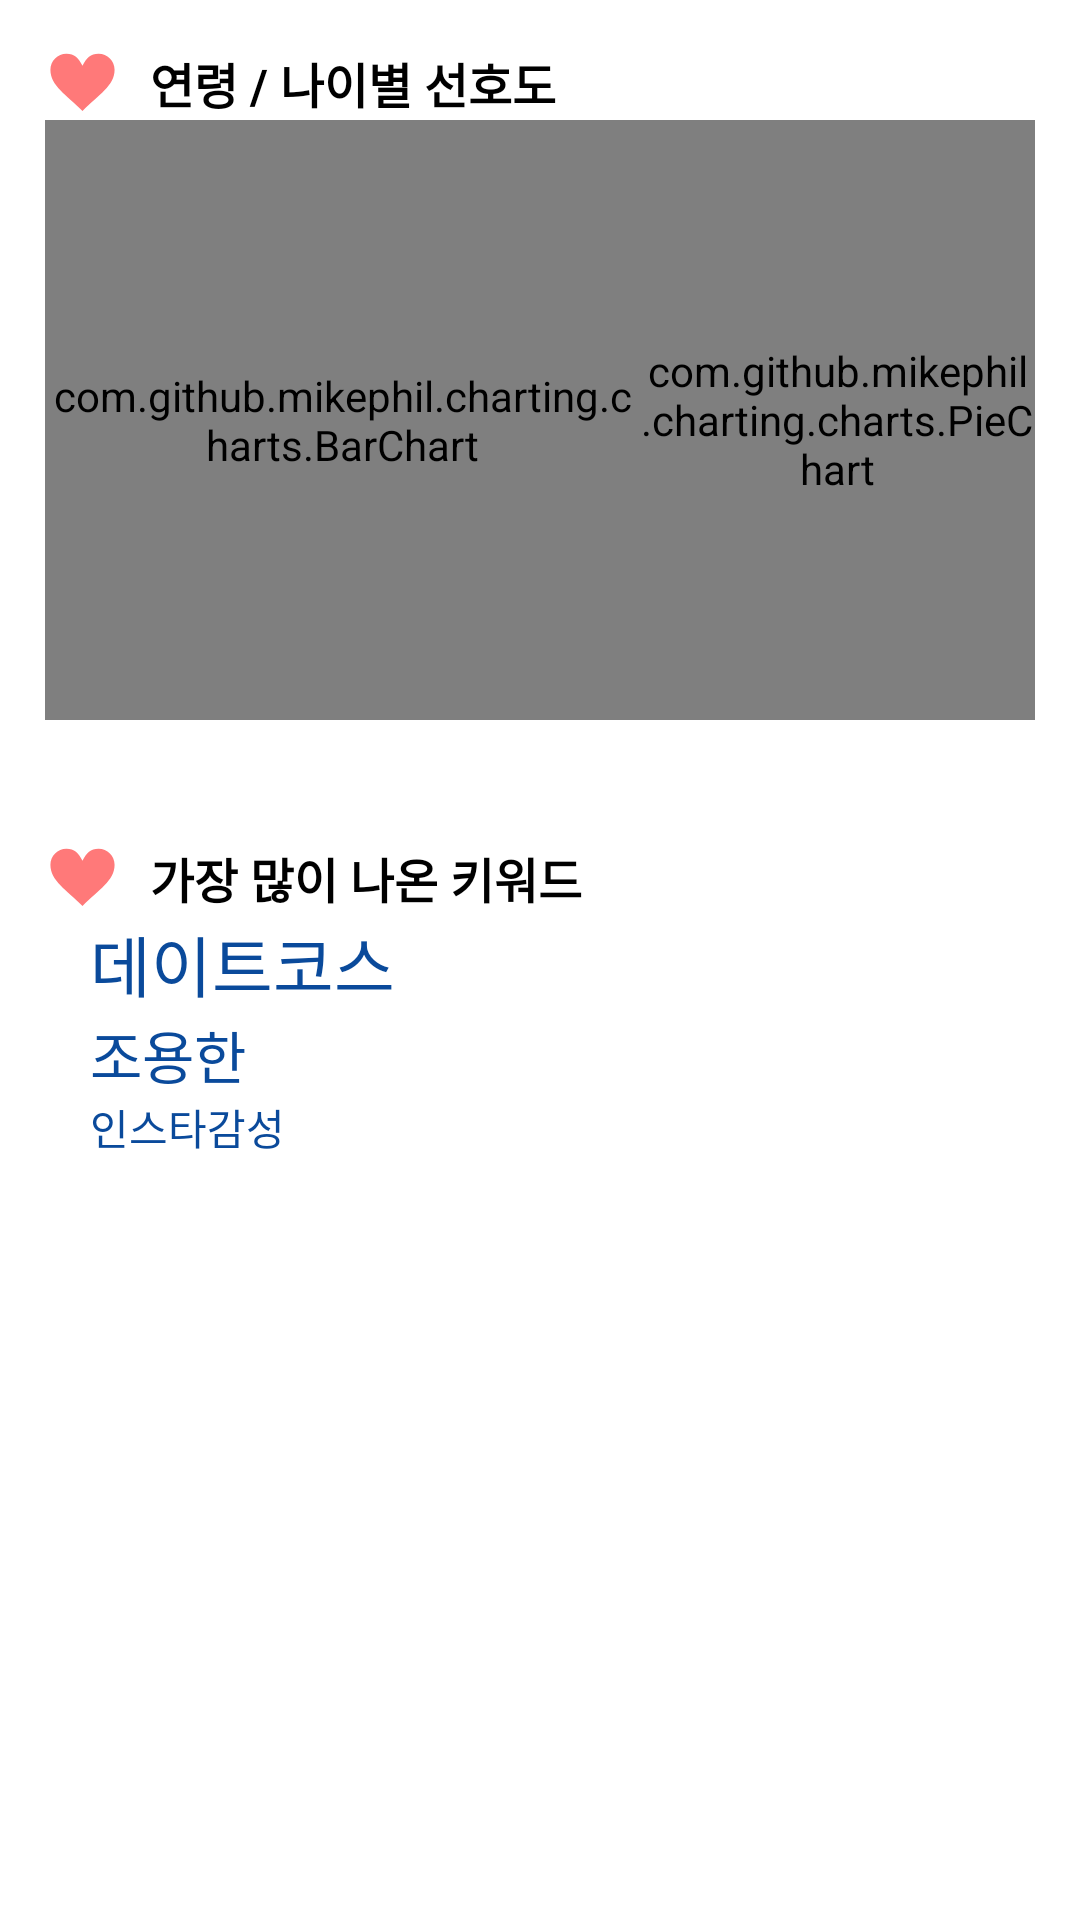

Named icons in this screenshot (1080 × 1920) and their bounding boxes, box=[x1, y1, x2, y2]:
heart: box=[50, 53, 115, 111], box=[50, 848, 115, 906]
